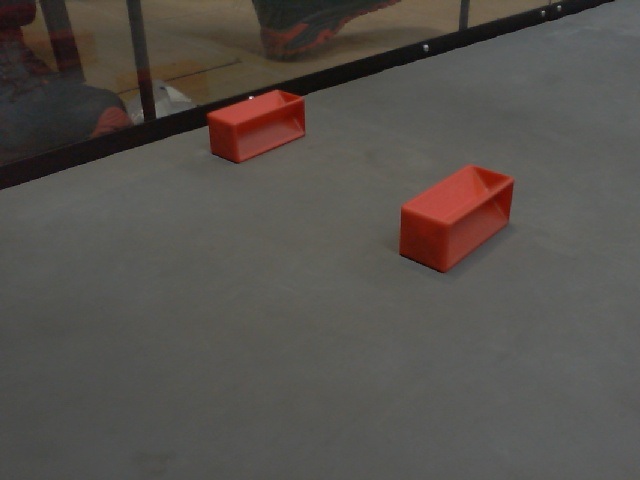RedSample: (398, 162, 516, 275), (204, 83, 313, 168)
